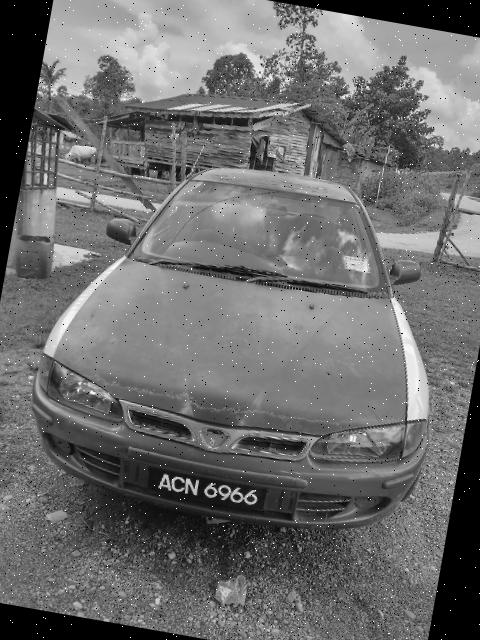License_Plate: (132, 461, 273, 517)
car: (5, 133, 477, 566)
